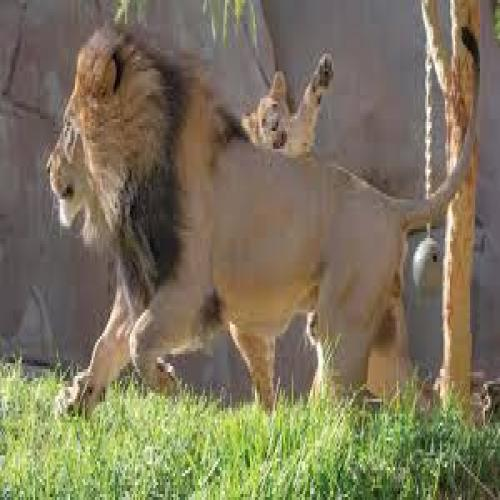lion-endangered: (38, 25, 488, 418), (240, 54, 336, 159)
